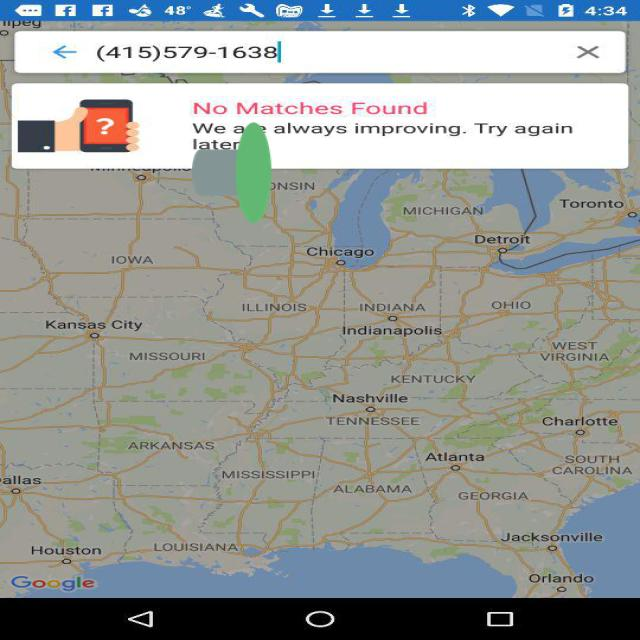social proof: (192, 61, 271, 284)
